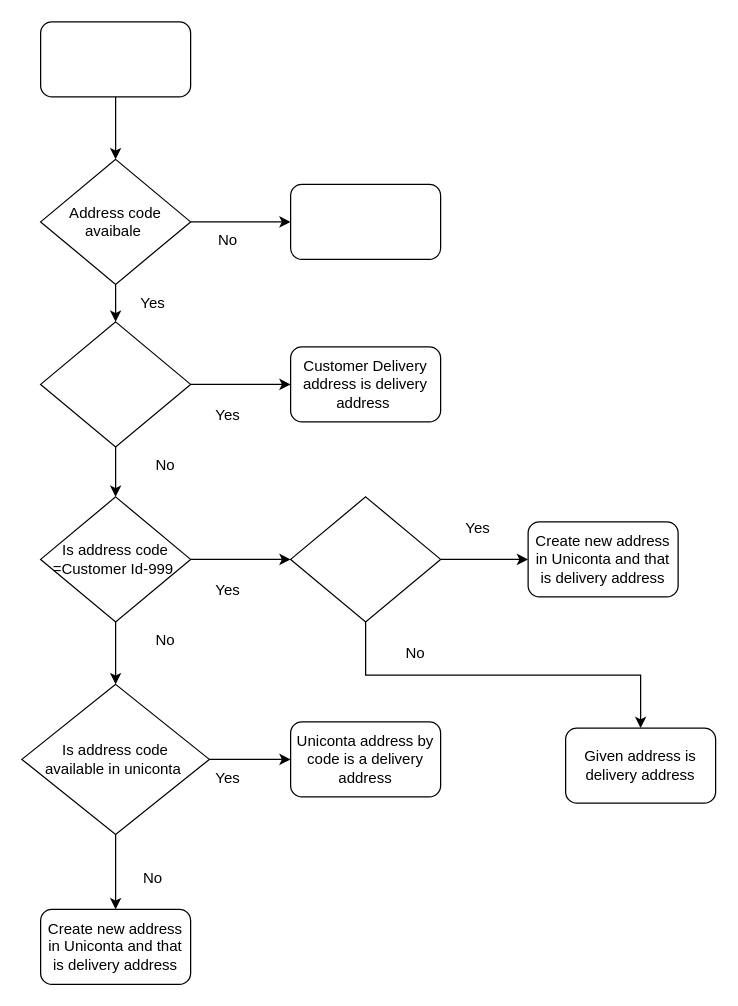
This 738x1006 diagram has some shape labels left out. Each missing label, with the centre of its shape:
"Customer billing address is delivery address" belongs at [365,221].
"Find Customer delivery address" belongs at [115,59].
"Is address code =Customer Id" belongs at [115,384].
"SaveAddress" belongs at [365,559].
